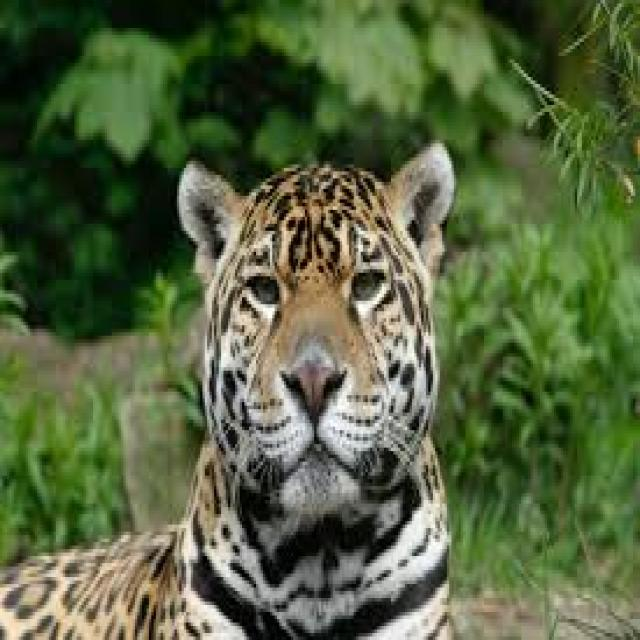Jaguar: (35, 91, 472, 636)
